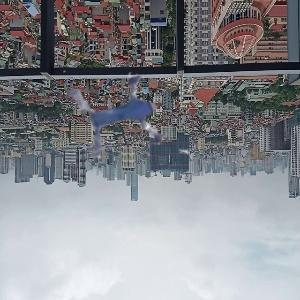drone: (58, 50, 187, 179)
